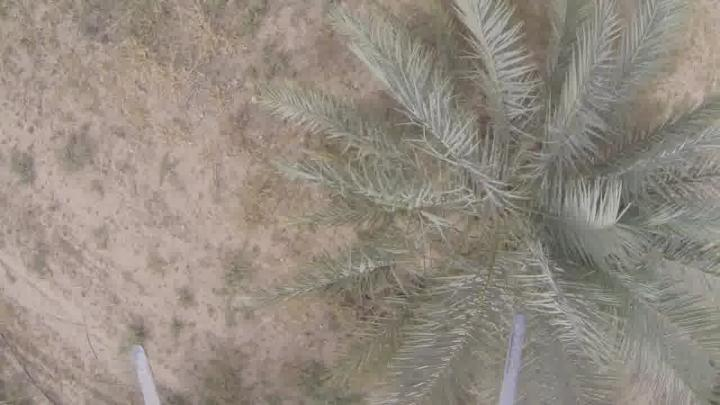Date-Palm-Crown: (366, 52, 644, 337)
